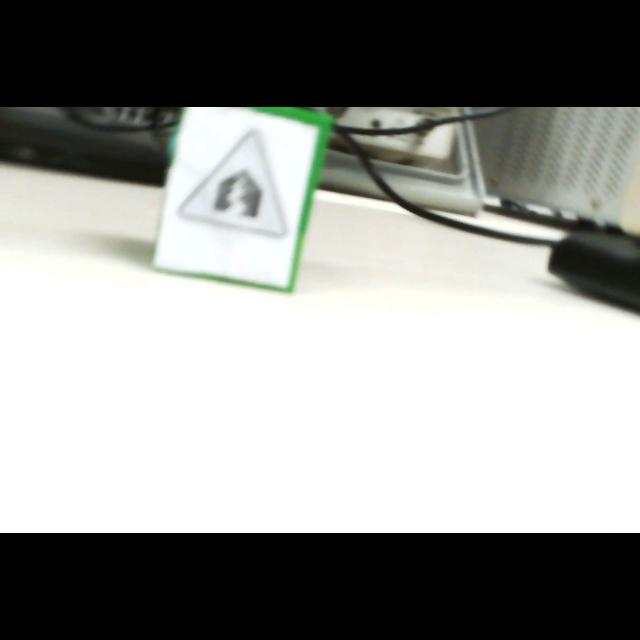Earthquake: (177, 131, 286, 239), (178, 131, 288, 237)
